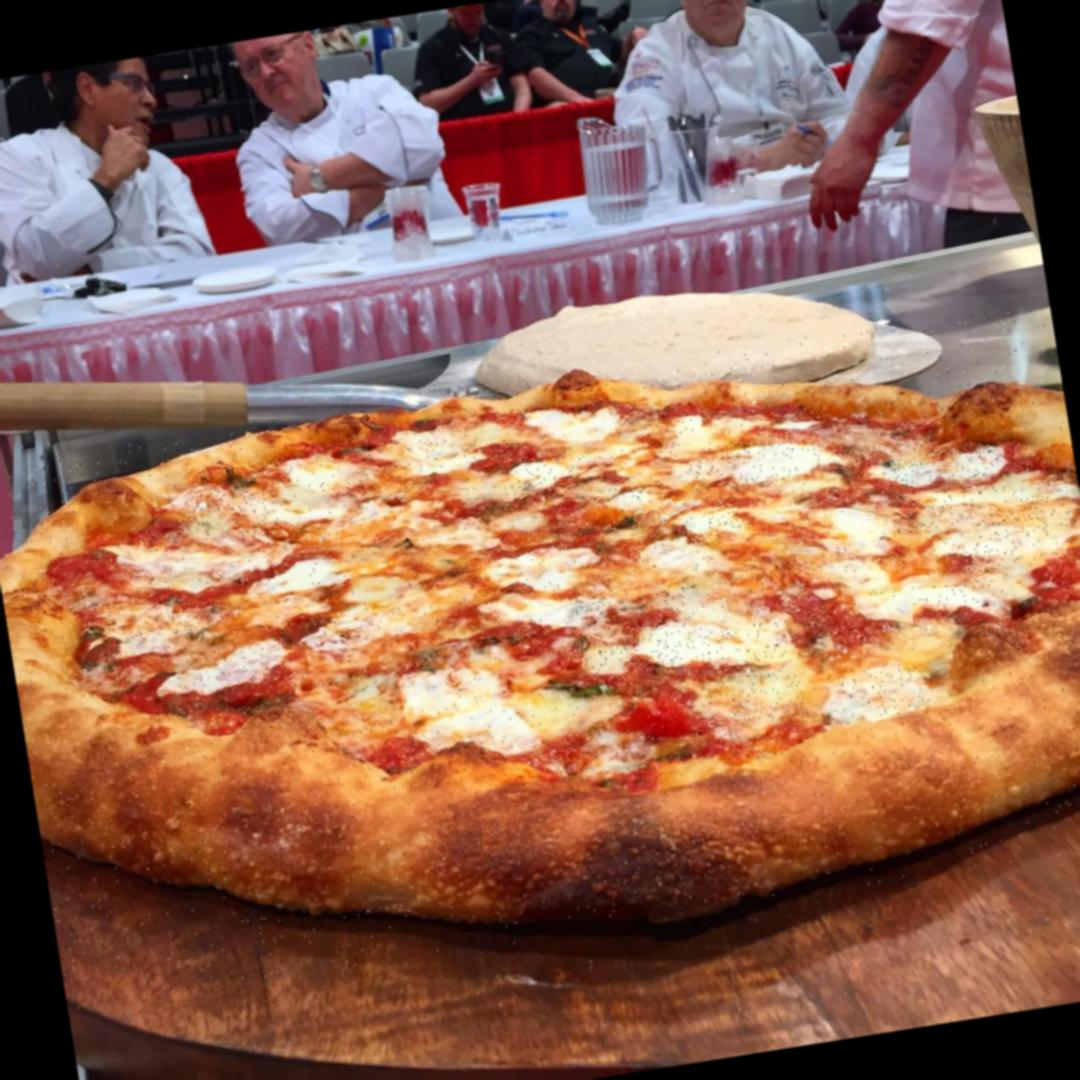Cheese: (925, 471, 1080, 580), (696, 610, 806, 731), (574, 584, 700, 676), (118, 534, 281, 600), (400, 664, 514, 757), (688, 437, 822, 495), (184, 479, 292, 549), (818, 550, 910, 629), (325, 575, 420, 644), (161, 639, 272, 694), (880, 442, 1000, 491), (839, 661, 932, 724), (102, 590, 196, 652), (909, 572, 1010, 626), (814, 497, 892, 563), (279, 446, 371, 498), (496, 542, 584, 596), (659, 408, 748, 460), (403, 423, 480, 476), (642, 530, 719, 579), (508, 454, 576, 503), (540, 408, 613, 453), (684, 503, 742, 542), (605, 479, 653, 515)
Pizza: (0, 297, 1080, 1011)
